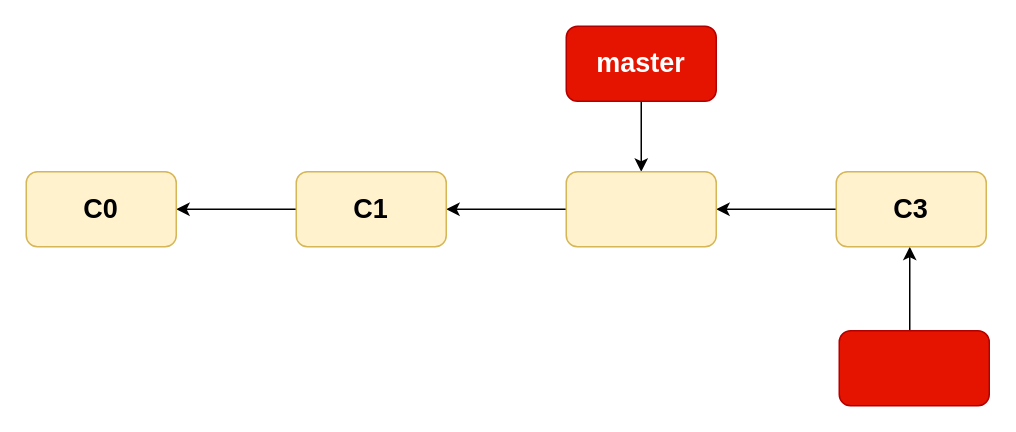
Image size: 1016x432. Some labels were removed from this diagram. Here are the shapes that lost their labels. From the top down, the centre of each, then its label:
the point at 640,208: C2
the point at 913,367: feature
